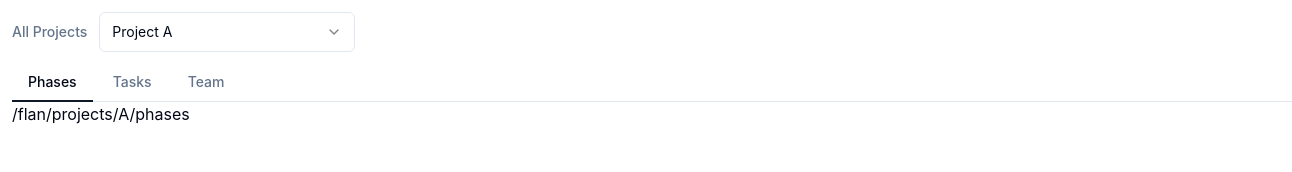
FlanNav › renders one switcher option per project
Click the dropdown labelled "Project". click: [227, 32]
box: 99,12 -> 355,52
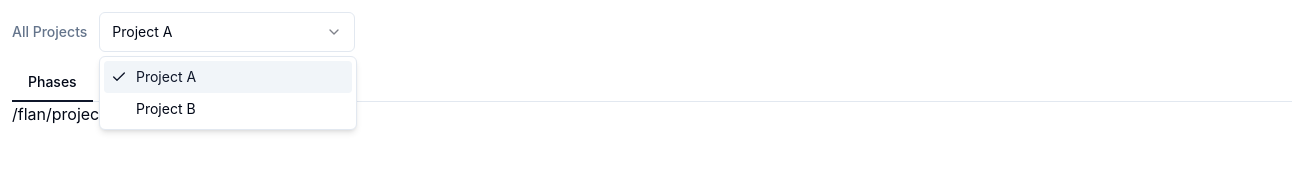
Check: the options read "Project A", "Project B", in this order, box 104,61 -> 352,93; 136,100 -> 196,117
